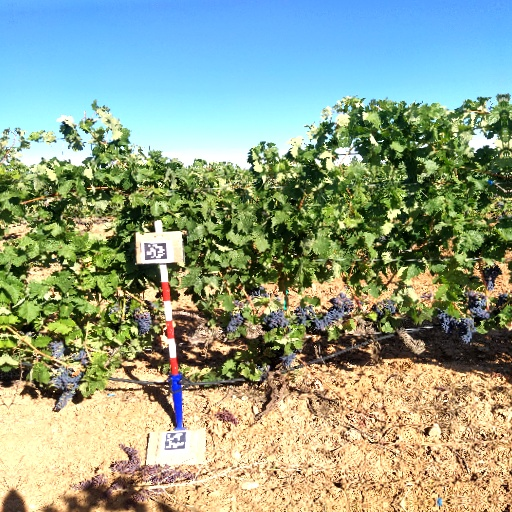QR: (141, 241, 170, 261), (163, 431, 187, 451)
